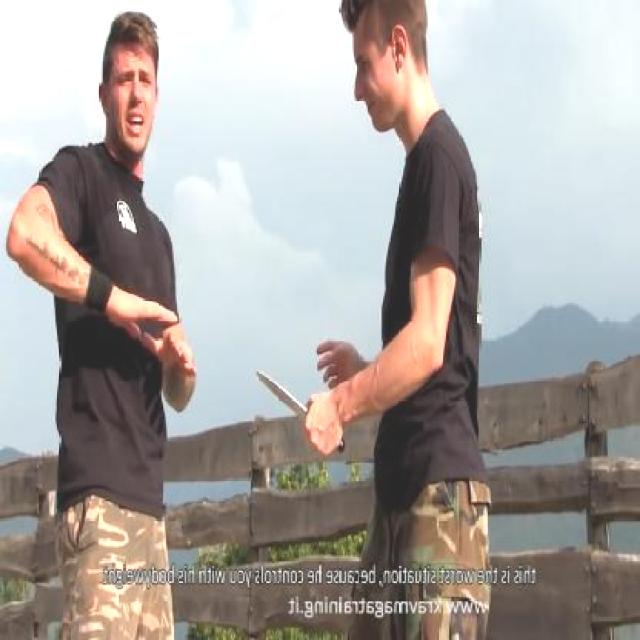knife: (249, 360, 348, 463)
